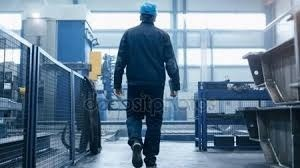helmet: (139, 2, 158, 17)
person with partial safety: (114, 2, 174, 167)
